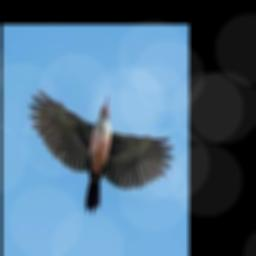Woodpecker: (29, 90, 174, 215)
